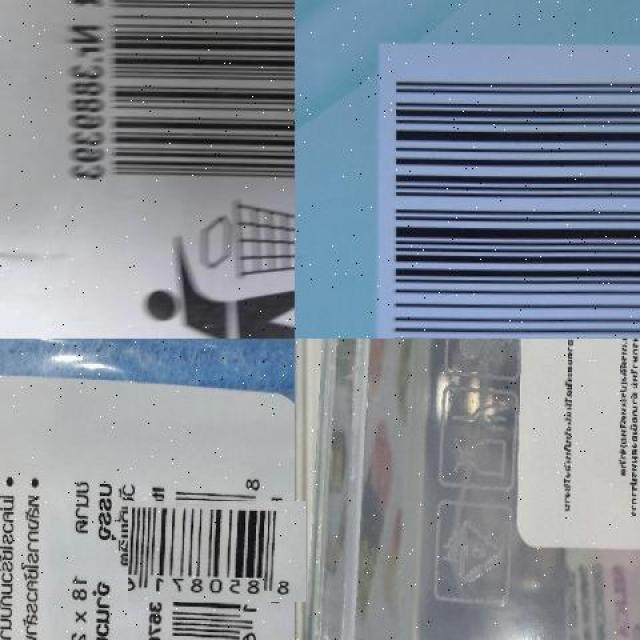Barcode: (383, 41, 640, 338), (50, 0, 295, 201), (147, 481, 287, 621)
